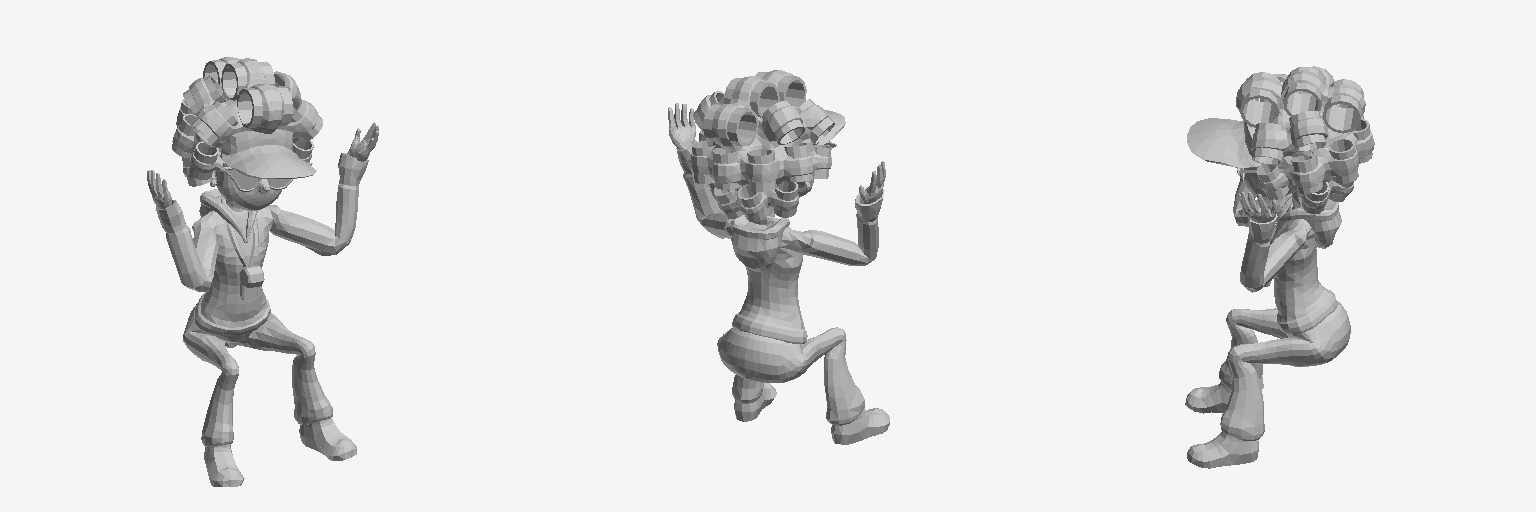
File: humano_mom_6.obj
The picture shows the model from 3 angles: view 1: azimuth 30°, elevation 25°; view 2: azimuth 150°, elevation 25°; view 3: azimuth 270°, elevation 25°; orthographic projection.
Visible parts, largest first — view 1: Fitness_Grandma_BodyGeo; view 2: Fitness_Grandma_BodyGeo; view 3: Fitness_Grandma_BodyGeo.
Part boxes in pixels (x1,y1,x2,y2): Fitness_Grandma_BodyGeo: (147, 57, 378, 486); Fitness_Grandma_BodyGeo: (668, 70, 889, 444); Fitness_Grandma_BodyGeo: (1185, 66, 1374, 468).
Bounding box in the file's own units: 0.7133 × 1.15 × 0.5329.